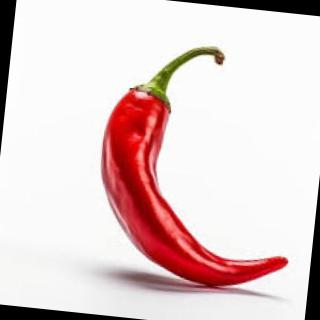Cabai Merah: (88, 36, 311, 295)
